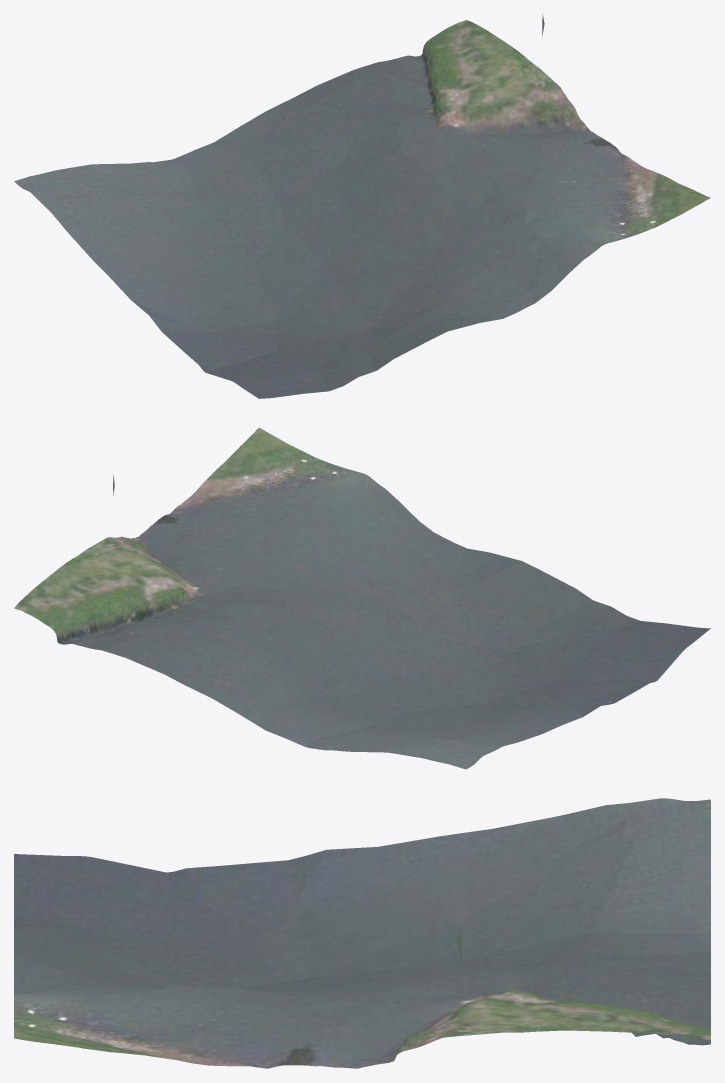
Rendered from Tile_+002_+008_L22_00000000.glb.
3 renders of one model, top to bottom at view 1: azimuth 30°, elevation 25°; view 2: azimuth 150°, elevation 25°; view 3: azimuth 270°, elevation 25°, orthographic. The views are drawn at different scales.
Visible parts, largest first — view 1: rtc; view 2: rtc; view 3: rtc.
Boxes of the visible parts, x1=… form: rtc: x1=14, y1=14, x2=710, y2=398; rtc: x1=14, y1=427, x2=710, y2=769; rtc: x1=14, y1=798, x2=710, y2=1068.
Bounding box in the file's own units: 25.59 × 10.34 × 24.03.
1 material, 1 textured.
